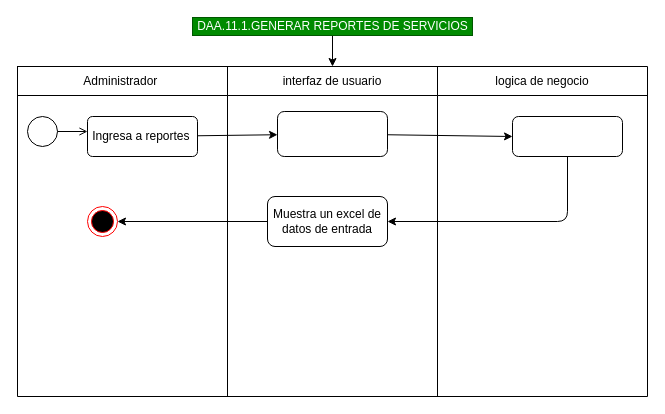
The diagram is 665 pixels wide and 414 high, and some of its shapes have lost their labels. The centre of each missing label's shape, as x and y in pixels:
"Consulta datos de entrada" goes at point (567, 136).
"Genera reporte" goes at point (332, 133).
